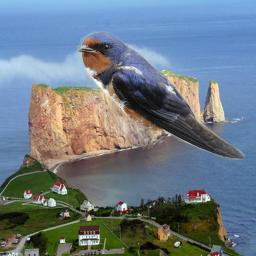Swallow: (76, 31, 245, 160)
